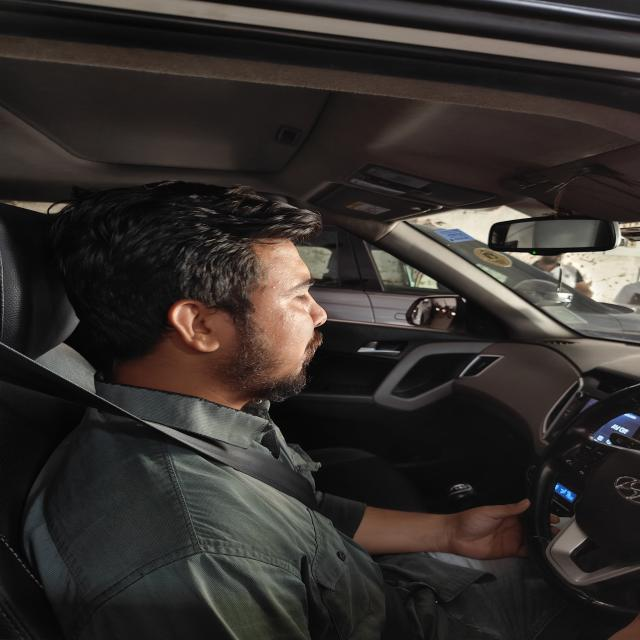seatbelt: (0, 318, 471, 640)
